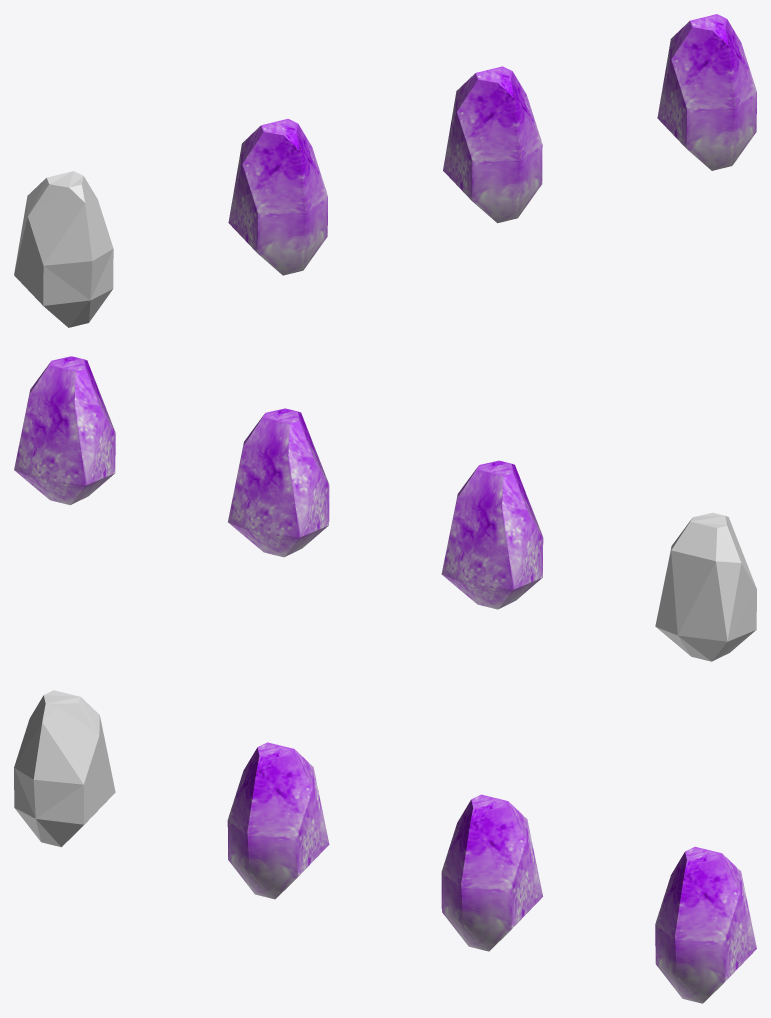
Rendered from hwccrystal_1_02.dae.
3 views of the same model, one above another, from view 1: azimuth 30°, elevation 25°; view 2: azimuth 150°, elevation 25°; view 3: azimuth 330°, elevation 25° (orthographic).
Visible parts, largest first — view 1: MULT[Root_mesh]_LOD[1], COL[Root], MULT[Root_mesh]_LOD[0], MULT[Root_mesh]_LOD[2]; view 2: MULT[Root_mesh]_LOD[1], MULT[Root_mesh]_LOD[2], COL[Root], MULT[Root_mesh]_LOD[0]; view 3: MULT[Root_mesh]_LOD[1], MULT[Root_mesh]_LOD[2], MULT[Root_mesh]_LOD[0], COL[Root].
Part boxes in pixels (x1,y1,x2,y2): MULT[Root_mesh]_LOD[1]: [443, 66, 542, 223]; COL[Root]: [14, 171, 113, 327]; MULT[Root_mesh]_LOD[0]: [228, 119, 327, 275]; MULT[Root_mesh]_LOD[2]: [657, 14, 756, 170]; MULT[Root_mesh]_LOD[1]: [228, 408, 329, 557]; MULT[Root_mesh]_LOD[2]: [14, 356, 115, 505]; COL[Root]: [655, 512, 756, 661]; MULT[Root_mesh]_LOD[0]: [441, 460, 543, 609]; MULT[Root_mesh]_LOD[1]: [441, 794, 542, 951]; MULT[Root_mesh]_LOD[2]: [655, 846, 756, 1003]; MULT[Root_mesh]_LOD[0]: [227, 742, 329, 899]; COL[Root]: [14, 690, 115, 847].
Bounding box in the file's own units: 333 × 61.87 × 40.55.
